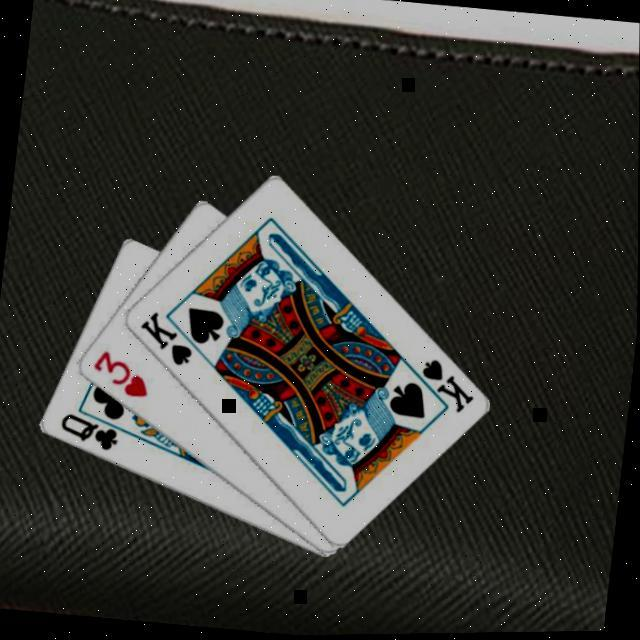3H: (84, 347, 154, 404)
KS: (400, 356, 478, 420), (130, 308, 197, 373)
QC: (52, 411, 120, 456)
